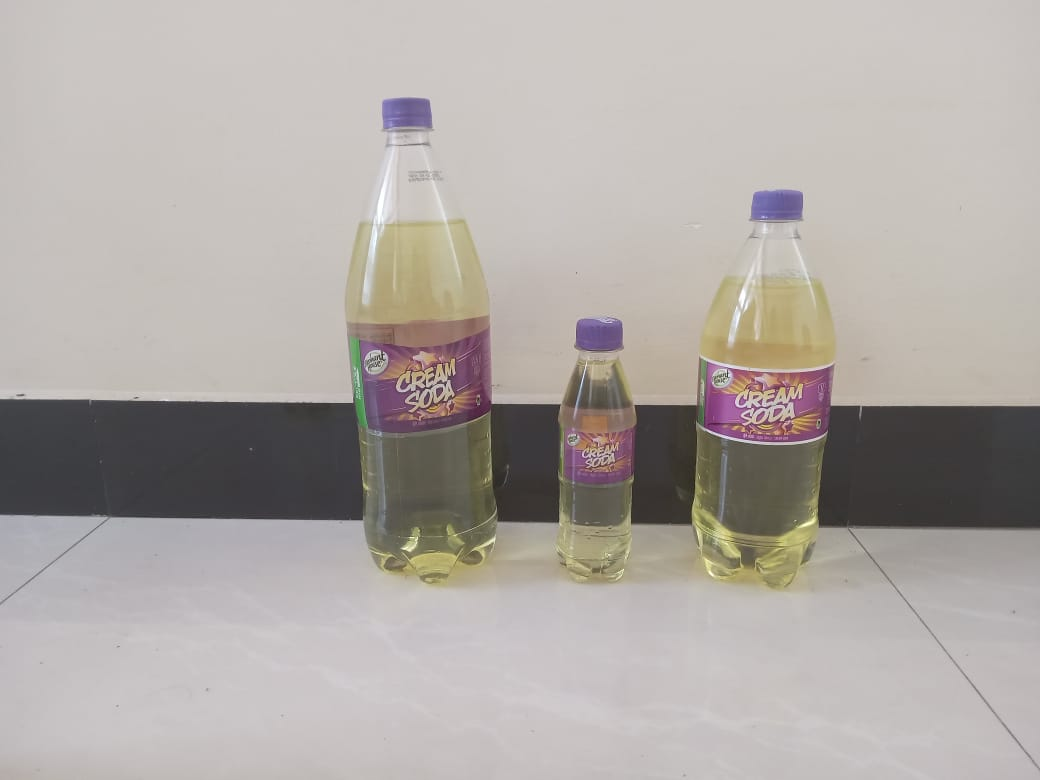L: (340, 98, 499, 581)
M: (693, 189, 830, 595)
Xs: (554, 319, 636, 591)
